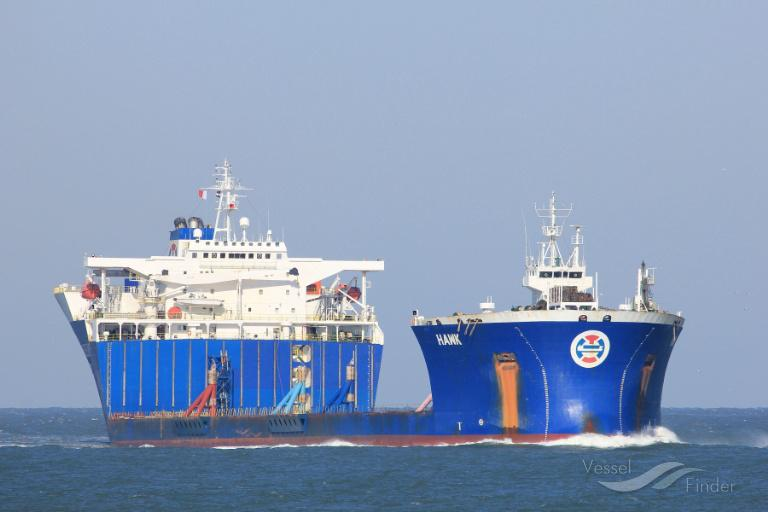OCR: (436, 324, 464, 350)
